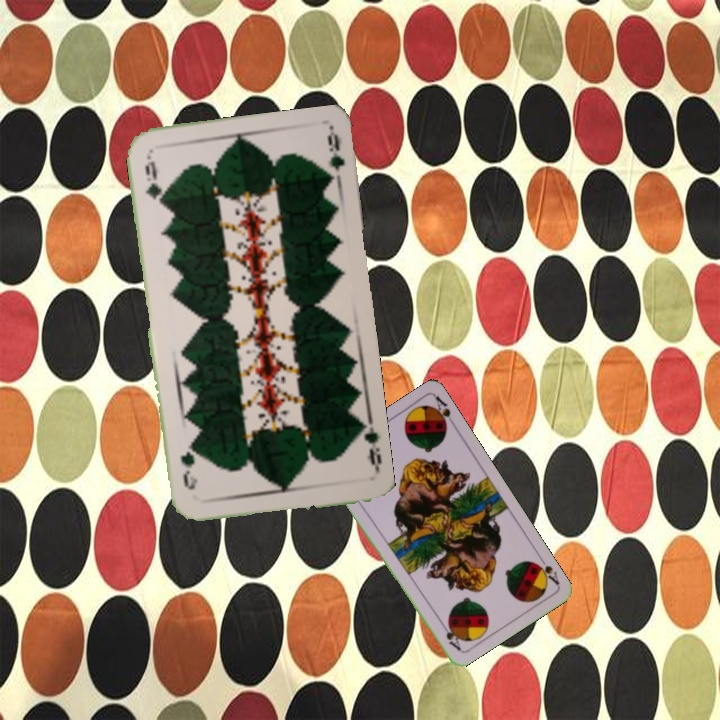G9: (353, 417, 384, 476), (141, 151, 166, 209)
SA: (528, 551, 562, 588)
